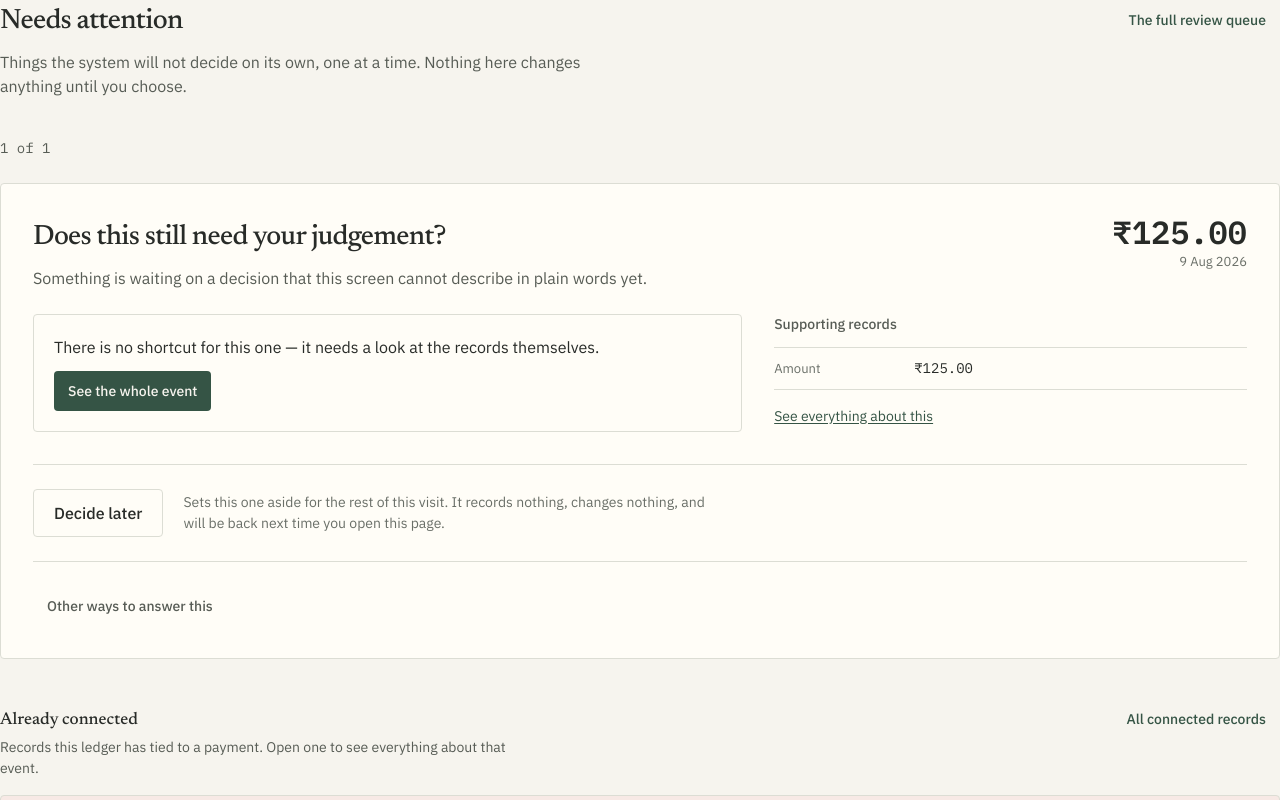
Test: a kind this screen has never seen › offers the full queue rather than a dead end when its inspector is opened
Expected: the heading "Does this still need your judgement?" is shown, [33, 223, 446, 251]
Click the button "Other ways to answer this" at (130, 606), box [33, 586, 227, 626]
(page scrolled)
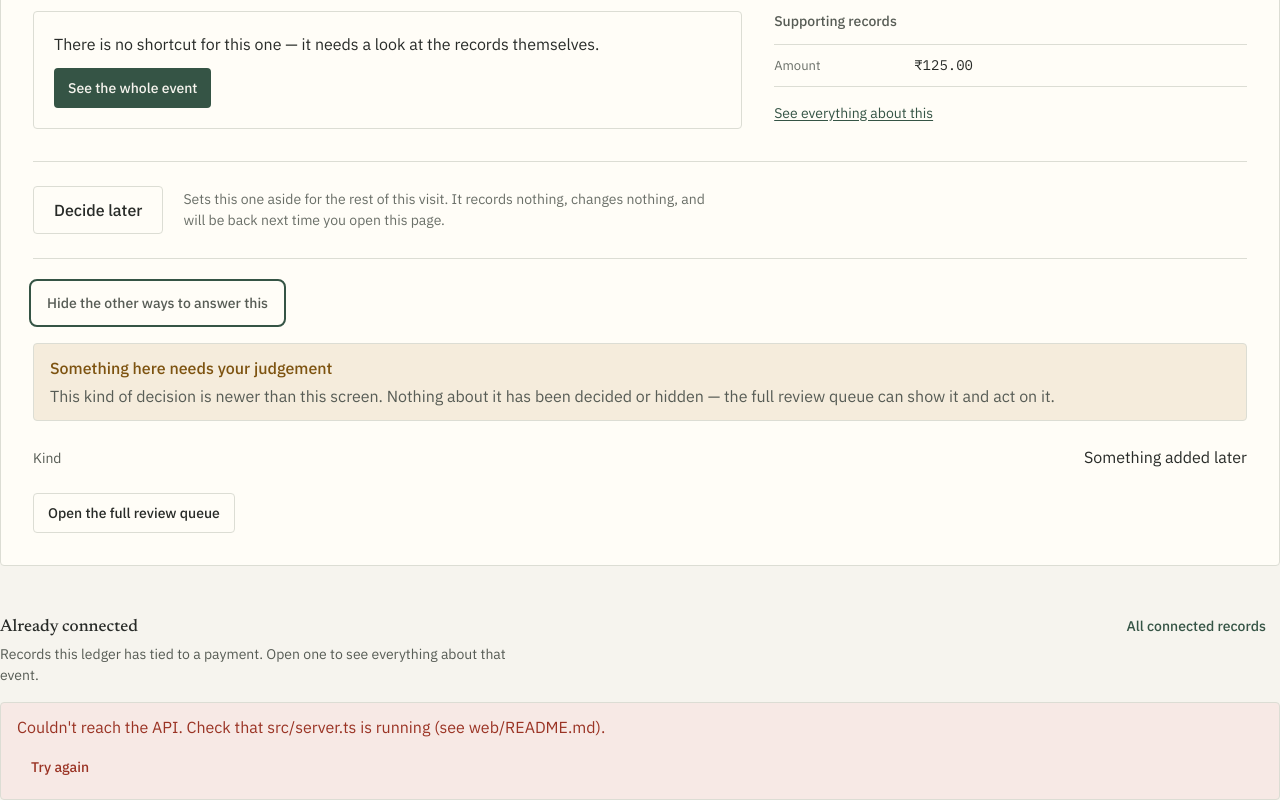
Result: the link "Open the full review queue" is shown at [33, 493, 235, 533]
